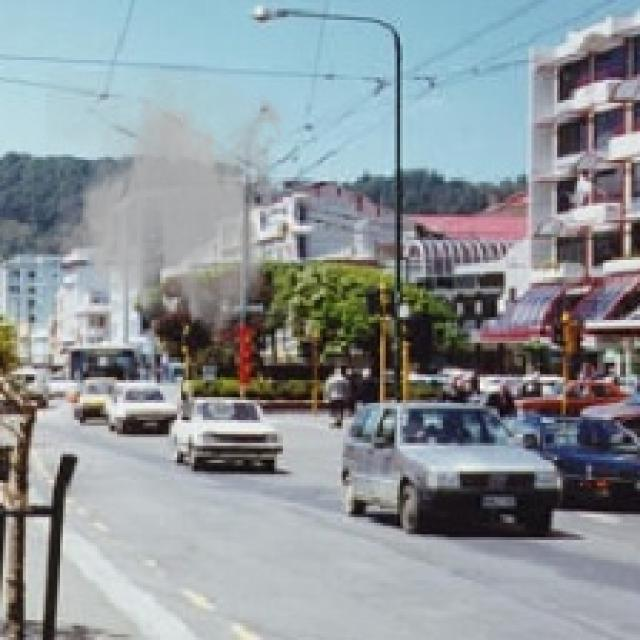Smoke: (46, 71, 292, 338)
